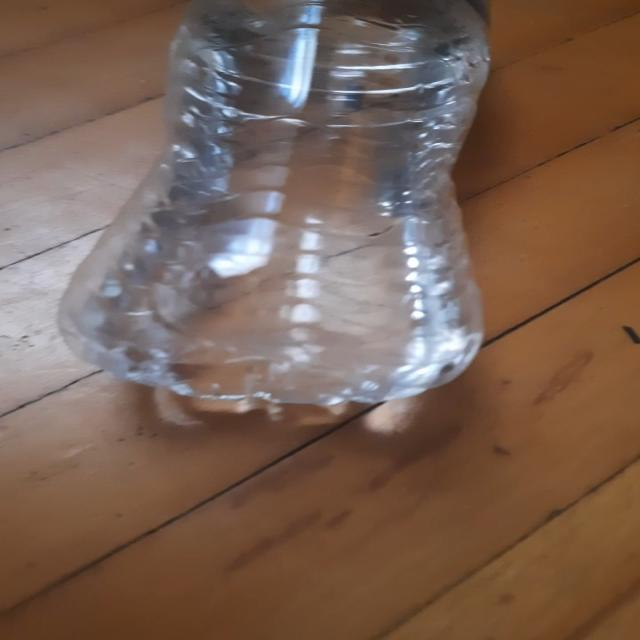Plastic: (55, 0, 491, 424)
